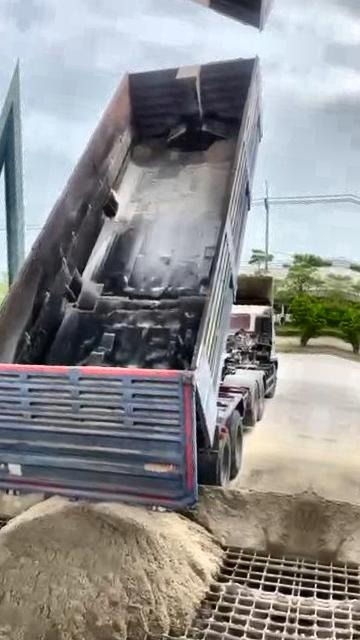sand: (0, 498, 222, 640), (185, 488, 310, 555), (0, 442, 41, 521), (217, 583, 295, 604)
